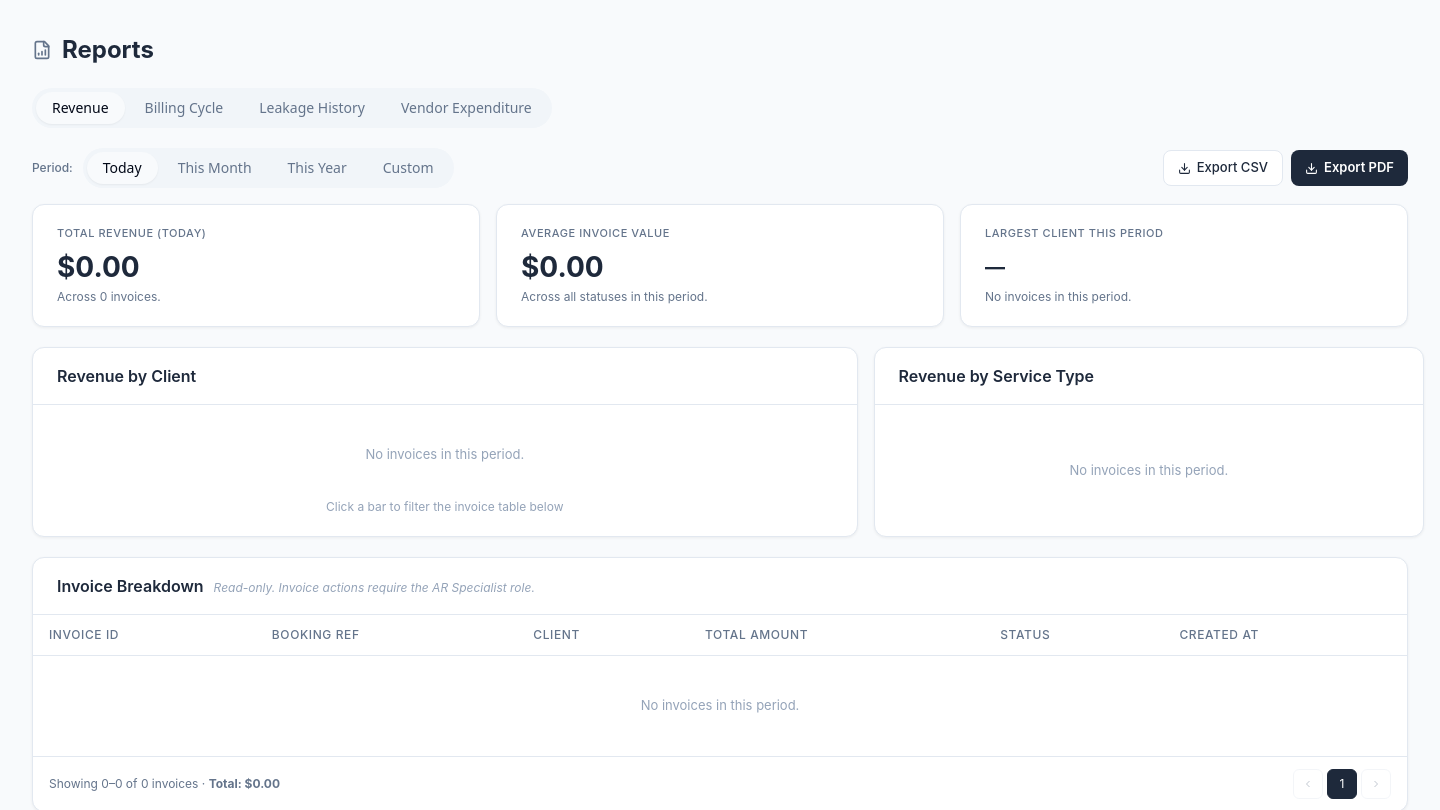
Test: Vendor Expenditure tab renders real KPIs and vendor rows instead of the "not yet implemented" placeholder
Click the button "Vendor Expenditure": (466, 108) [385,92,548,124]
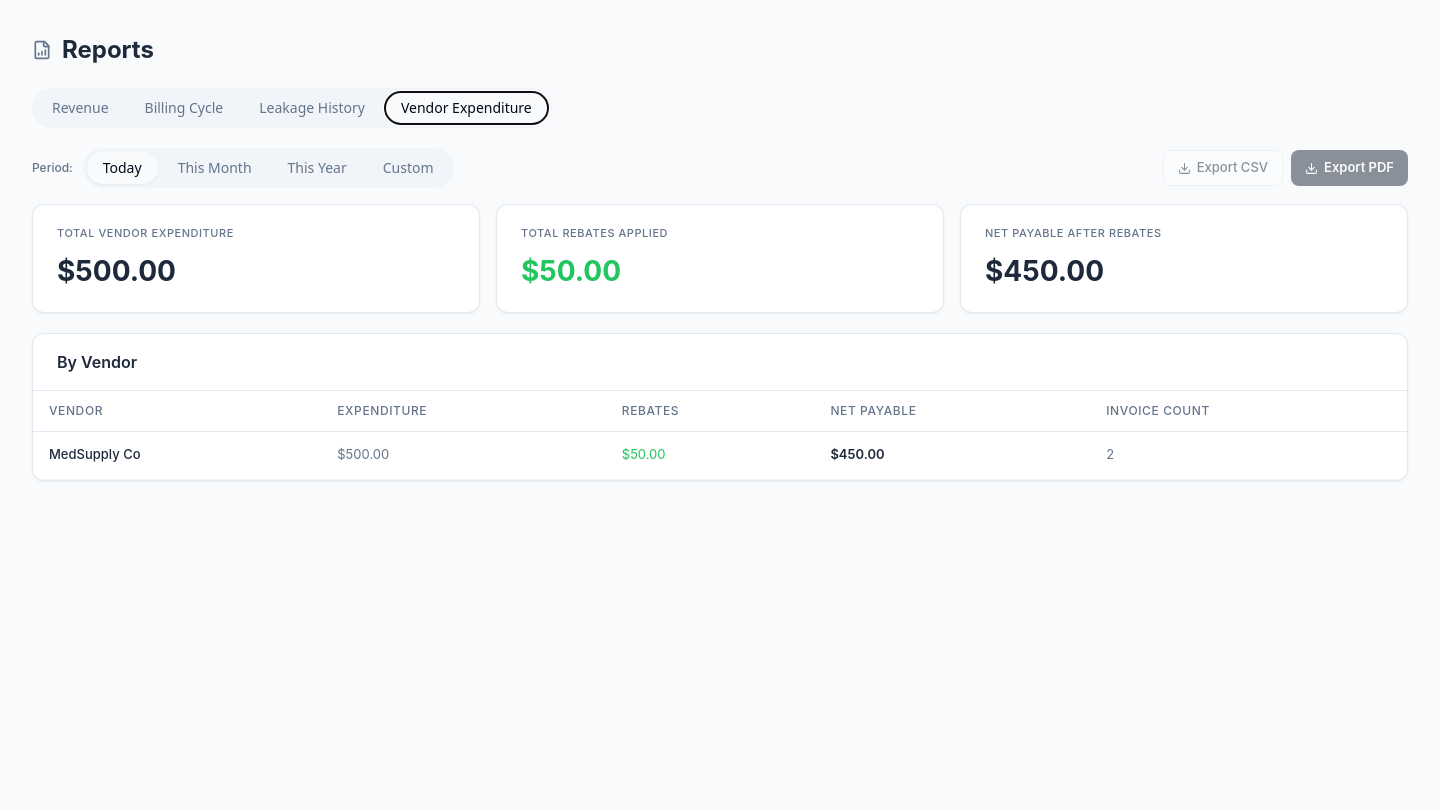
Expected: the text "MedSupply Co" is shown, [33,431,321,479]
Expected: the text "$500.00" is shown 2 times, [57,254,176,288]; [321,431,606,479]
